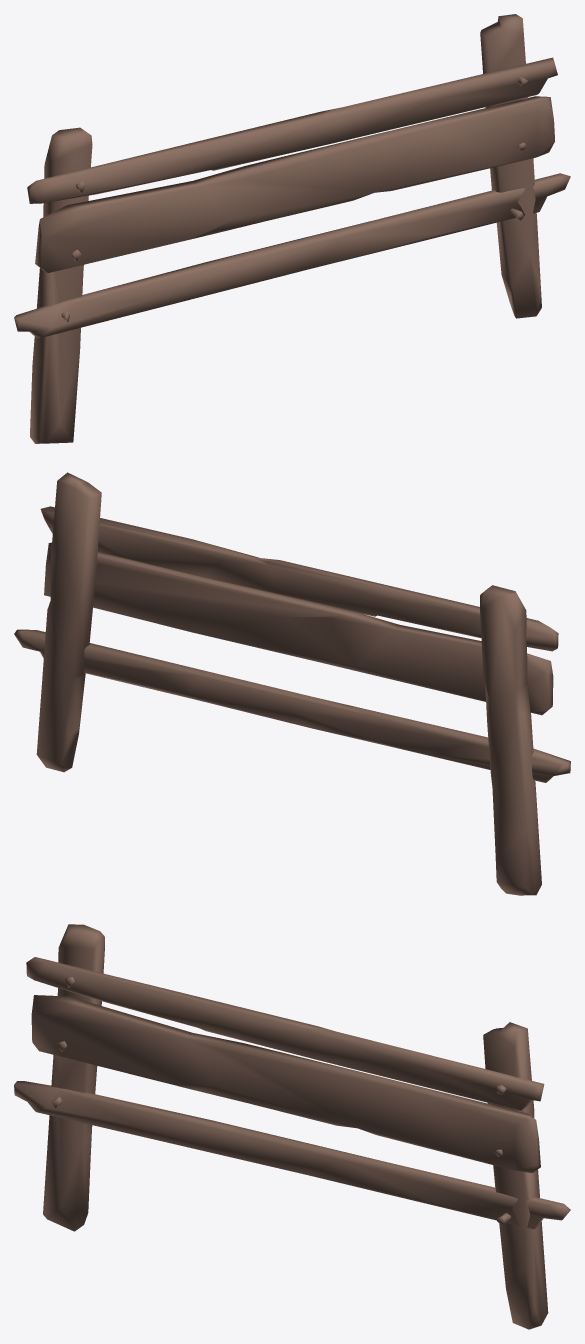
File: DuoduodFence.fbx
3 renders of one model, top to bottom at view 1: azimuth 30°, elevation 25°; view 2: azimuth 150°, elevation 25°; view 3: azimuth 330°, elevation 25°, orthographic. The views are drawn at different scales.
Parts seen in each view (by area): view 1: polySurface27, polySurface11; view 2: polySurface27, polySurface11; view 3: polySurface27, polySurface11.
Boxes of the visible parts, x1,y1,x2,y2 form: polySurface27: (14,14,570,443); polySurface11: (35,96,554,272); polySurface27: (14,472,570,895); polySurface11: (44,542,553,715); polySurface27: (14,924,570,1329); polySurface11: (31,995,540,1172).
Size of the model in its own units: 245 by 131 by 16.14.
